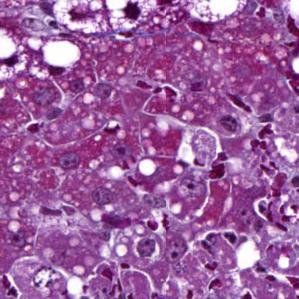ballooning: (101, 3, 164, 34), (49, 3, 109, 35), (173, 3, 245, 26)
